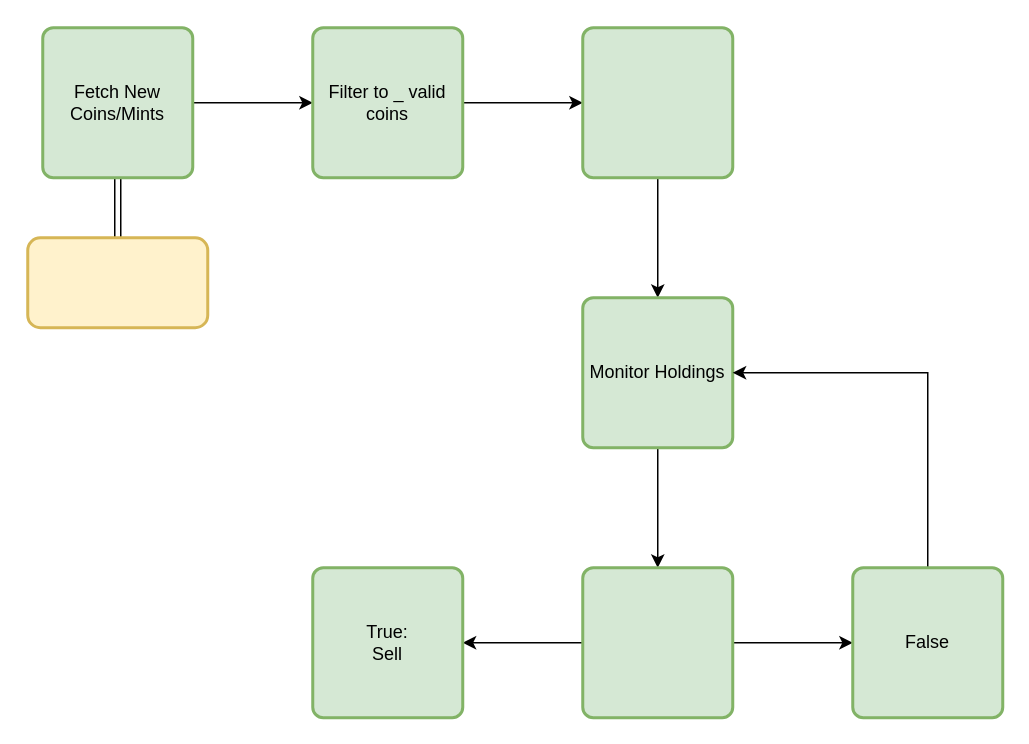
Some shapes in this 1029 by 744 pixel diagram are drawn without their labels. The box of each missing label's shape, as (x1, y1, x2, y2) in pixels:
Dex Screener, Jupyter, Raydium...: (26, 236, 208, 328)
If Sell Condition: (580, 566, 734, 718)
Purchase _ SOL of top _ valid coins: (580, 26, 734, 178)
